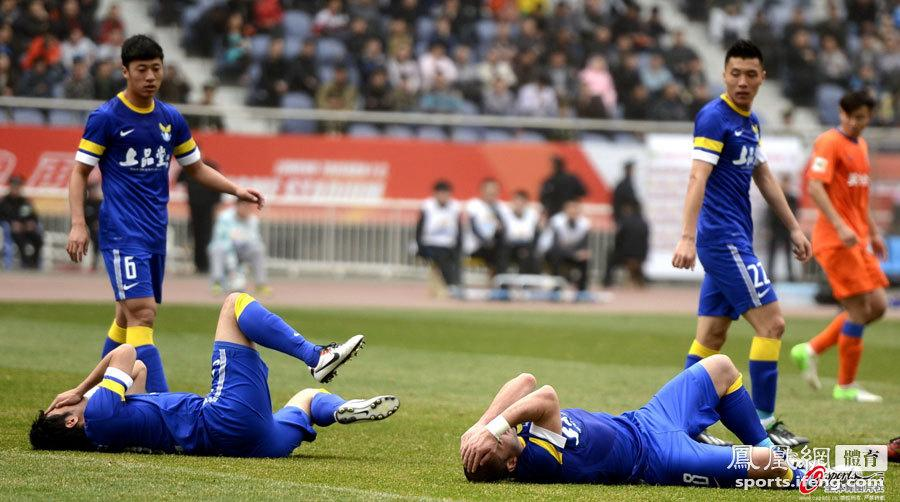down: (34, 288, 409, 451), (450, 348, 888, 485)
up: (61, 28, 256, 390), (680, 38, 810, 438), (795, 90, 892, 403)
